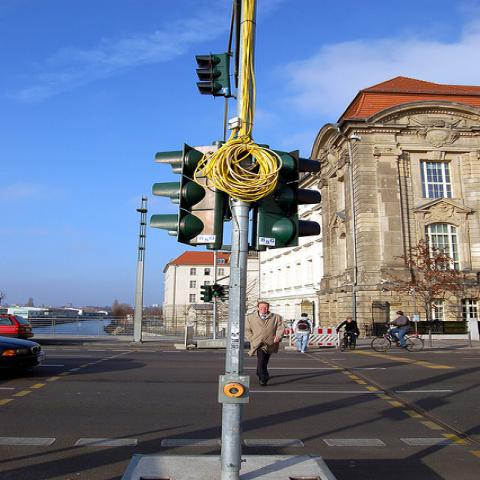car: (5, 336, 42, 380), (1, 315, 34, 339)
